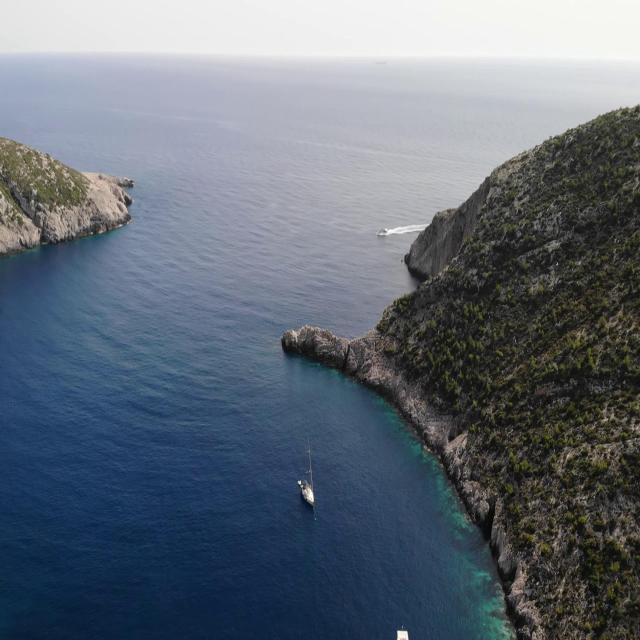sailboat: (300, 436, 316, 508)
